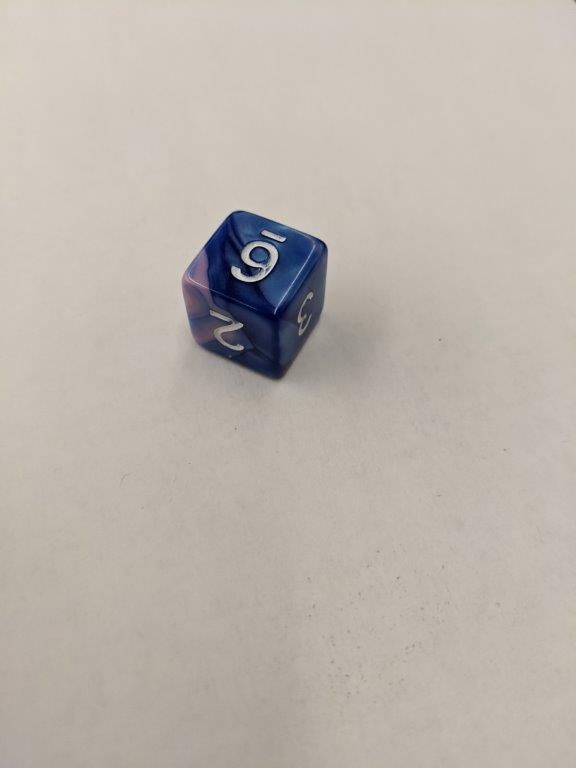d6-6: (181, 210, 329, 383)
